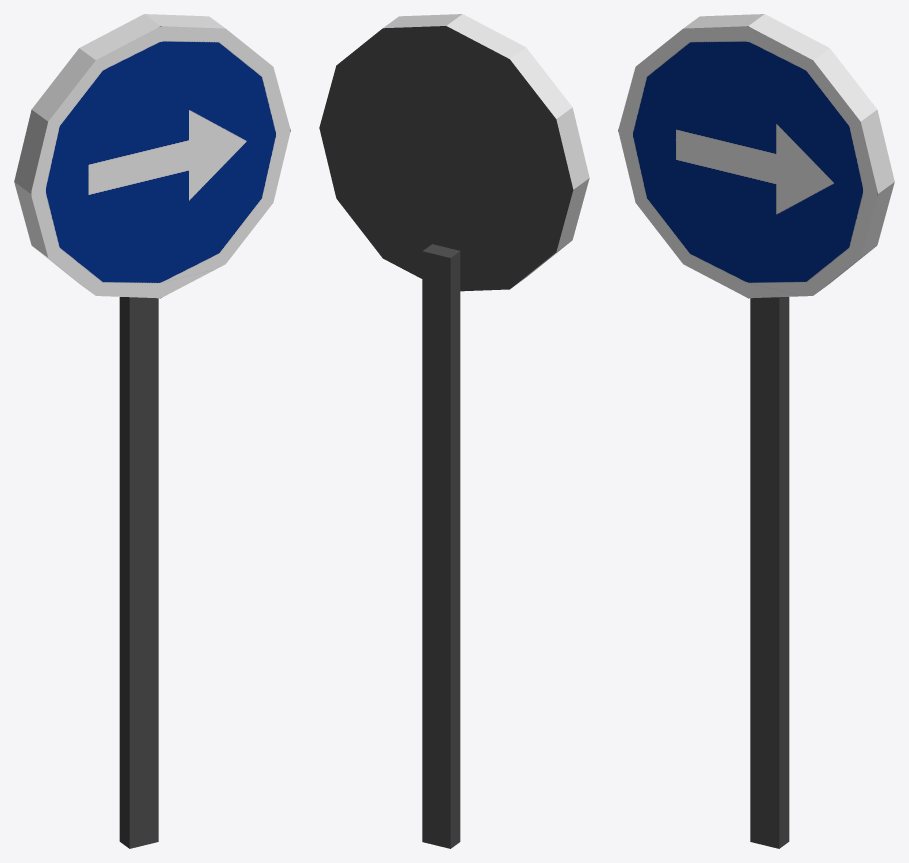
File: traffic_sign_go_right.glb
3 renders of one model, left to right at view 1: azimuth 30°, elevation 25°; view 2: azimuth 150°, elevation 25°; view 3: azimuth 330°, elevation 25°, orthographic. The views are drawn at different scales.
Visible parts, largest first — view 1: Circle, Plane; view 2: Circle, Plane; view 3: Circle, Plane.
Boxes of the visible parts, x1,y1,x2,y2 form: Circle: (14,14,290,298); Plane: (119,297,158,848); Circle: (319,14,589,291); Plane: (422,244,460,848); Circle: (618,14,894,298); Plane: (750,297,789,848).
Size of what is drawn, in the model's own units: 0.9 by 2.75 by 0.16.
Materials: 4 (1 with a texture image).
